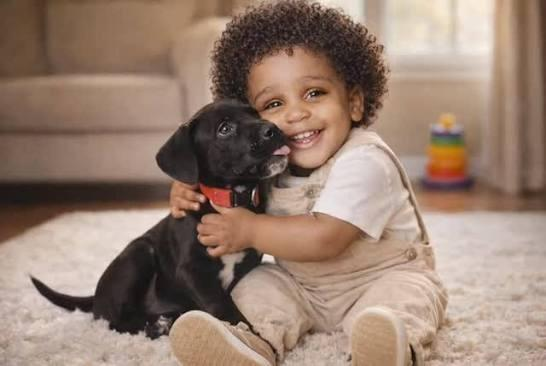puppy-dog: (29, 97, 294, 339)
